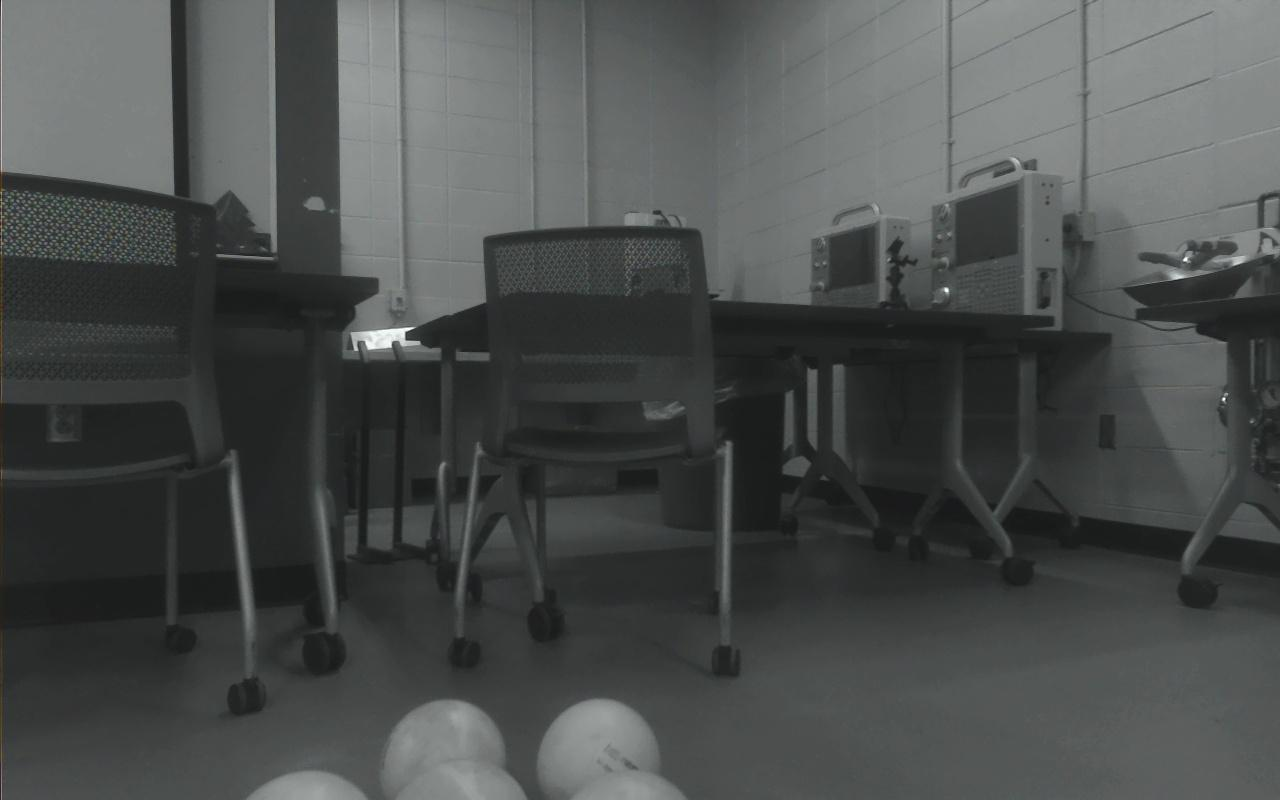Fuel: (536, 696, 662, 800), (380, 697, 507, 800), (393, 757, 527, 800), (244, 768, 371, 800), (568, 768, 687, 800)
